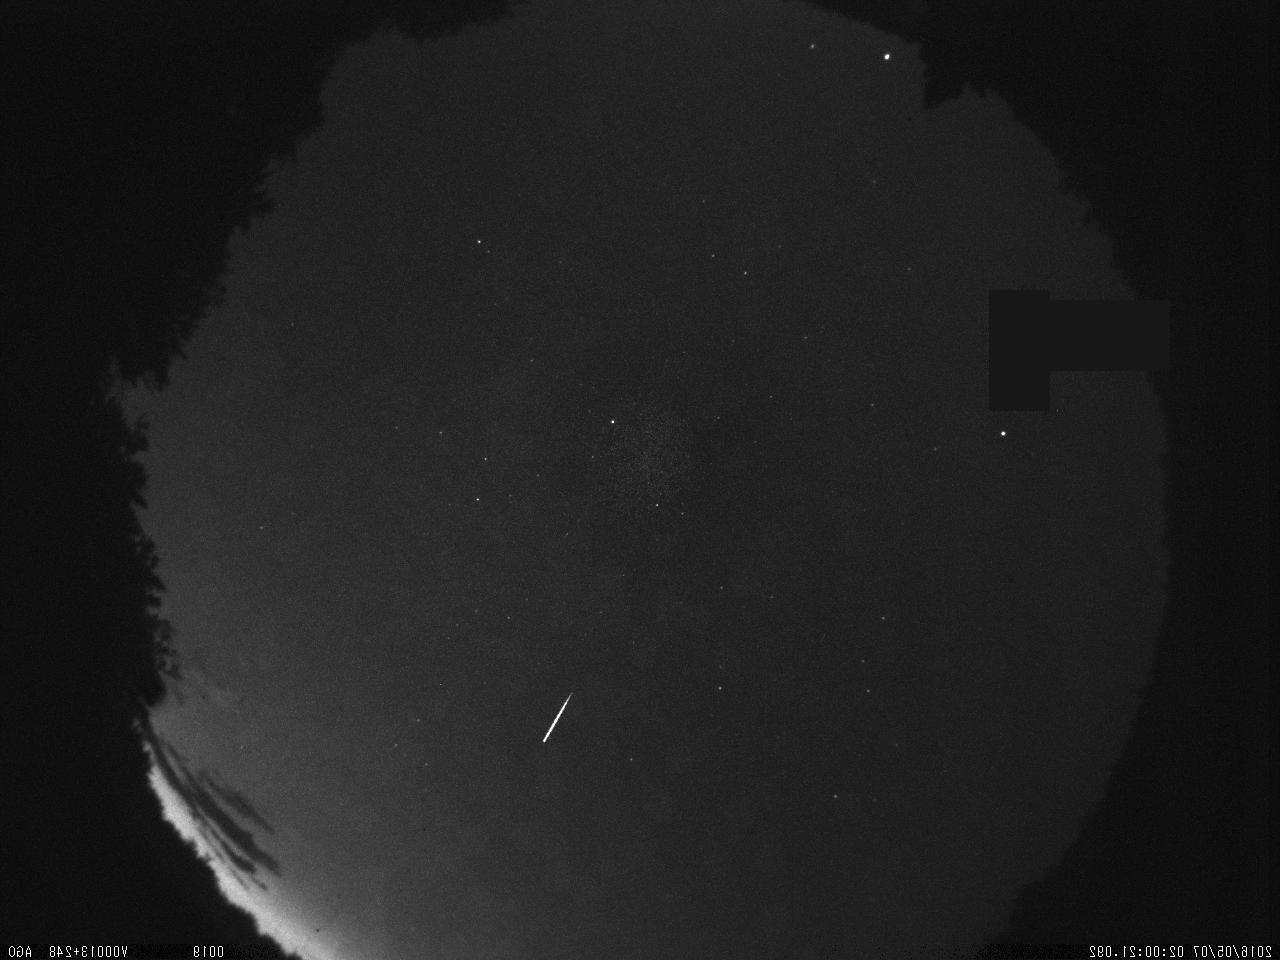meteor: (532, 688, 582, 747)
